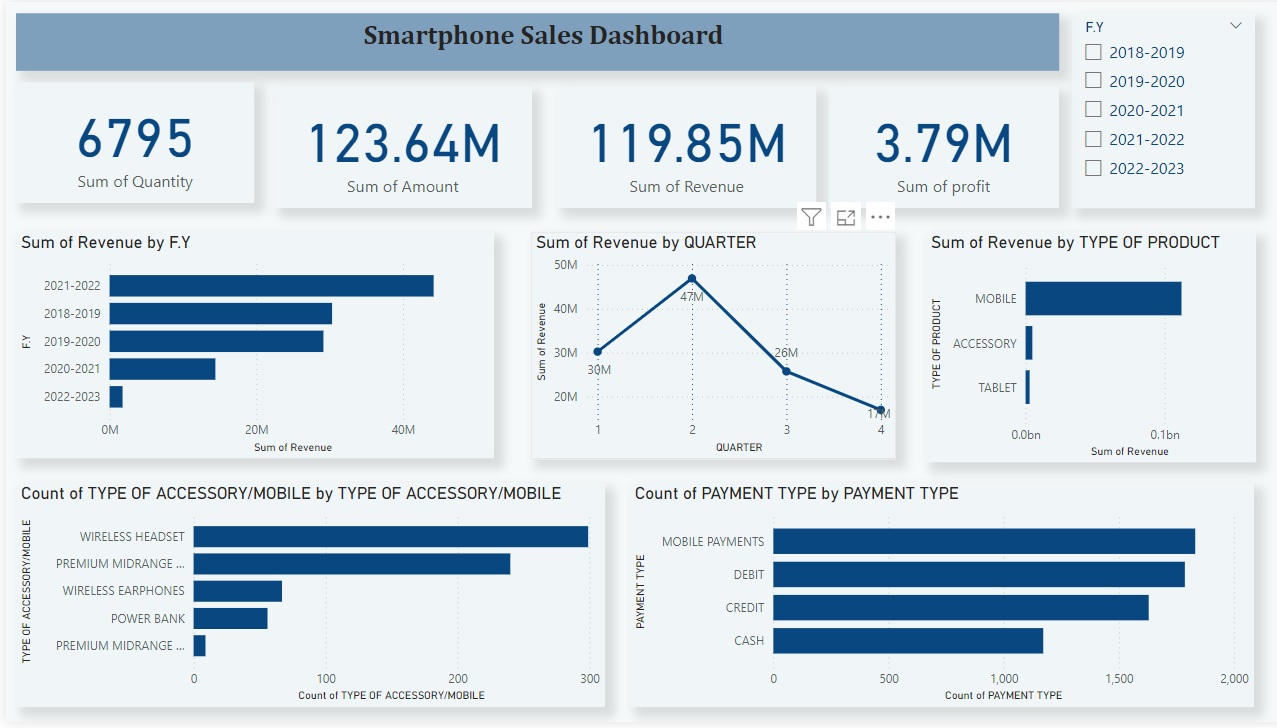

The dashboard page shown, as its layout file describes it:
{"tool":"powerbi","page":{"name":"Page 1","canvas":[1280,720],"ordinal":0},"visuals":[{"type":"textbox","box":[9.6,11,1042.9,57.6],"z":0},{"type":"card","fields":{"Values":["Sum(SMARTPHONE RETAIL OUTLET SALE DATA.Quantity)"]},"box":[9.6,79.6,238.8,120.8],"z":1000},{"type":"card","fields":{"Values":["Sum(SMARTPHONE RETAIL OUTLET SALE DATA.Amount)"]},"box":[269,85.1,256.6,120.8],"z":2000},{"type":"card","fields":{"Values":["Sum(SMARTPHONE RETAIL OUTLET SALE DATA.Revenue)"]},"box":[551.6,85.1,259.3,120.8],"z":3000},{"type":"card","fields":{"Values":["Sum(SMARTPHONE RETAIL OUTLET SALE DATA.profit)"]},"box":[822,85.1,230.5,120.8],"z":4000},{"type":"barChart","fields":{"Category":["SMARTPHONE RETAIL OUTLET SALE DATA.F.Y"],"Y":["Sum(SMARTPHONE RETAIL OUTLET SALE DATA.Revenue)"]},"box":[9.6,230.5,477.5,226.4],"z":5000},{"type":"lineChart","fields":{"Y":["Sum(SMARTPHONE RETAIL OUTLET SALE DATA.Revenue)"],"Category":["SMARTPHONE RETAIL OUTLET SALE DATA.QUARTER"]},"box":[525.6,230.5,365,226.4],"z":6000},{"type":"barChart","fields":{"Y":["Sum(SMARTPHONE RETAIL OUTLET SALE DATA.Revenue)"],"Category":["SMARTPHONE RETAIL OUTLET SALE DATA.TYPE OF PRODUCT"]},"box":[919.4,230.5,329.3,230.5],"z":7000},{"type":"barChart","fields":{"Category":["SMARTPHONE RETAIL OUTLET SALE DATA.TYPE OF ACCESSORY/MOBILE"],"Y":["CountNonNull(SMARTPHONE RETAIL OUTLET SALE DATA.TYPE OF ACCESSORY/MOBILE)"]},"box":[9.6,481.6,588.7,223.7],"z":8000},{"type":"barChart","fields":{"Category":["SMARTPHONE RETAIL OUTLET SALE DATA.PAYMENT TYPE"],"Y":["CountNonNull(SMARTPHONE RETAIL OUTLET SALE DATA.PAYMENT TYPE)"]},"box":[624.4,481.6,624.4,223.7],"z":9000},{"type":"slicer","fields":{"Values":["SMARTPHONE RETAIL OUTLET SALE DATA.F.Y"]},"box":[1066.4,11.1,182.6,194.8],"z":10000}]}

Visuals, with their boxes in screenshot pixels (x1, y1, x2, y2), scaled from the page's 1280x720 canvas onto the 1277x728 screenshot:
textbox: {"left": 10, "top": 11, "right": 1050, "bottom": 69}
card - Sum(SMARTPHONE RETAIL OUTLET SALE DATA.Quantity): {"left": 10, "top": 80, "right": 248, "bottom": 203}
card - Sum(SMARTPHONE RETAIL OUTLET SALE DATA.Amount): {"left": 268, "top": 86, "right": 524, "bottom": 208}
card - Sum(SMARTPHONE RETAIL OUTLET SALE DATA.Revenue): {"left": 550, "top": 86, "right": 809, "bottom": 208}
card - Sum(SMARTPHONE RETAIL OUTLET SALE DATA.profit): {"left": 820, "top": 86, "right": 1050, "bottom": 208}
barChart - SMARTPHONE RETAIL OUTLET SALE DATA.F.Y x Sum(SMARTPHONE RETAIL OUTLET SALE DATA.Revenue): {"left": 10, "top": 233, "right": 486, "bottom": 462}
lineChart - Sum(SMARTPHONE RETAIL OUTLET SALE DATA.Revenue) x SMARTPHONE RETAIL OUTLET SALE DATA.QUARTER: {"left": 524, "top": 233, "right": 889, "bottom": 462}
barChart - Sum(SMARTPHONE RETAIL OUTLET SALE DATA.Revenue) x SMARTPHONE RETAIL OUTLET SALE DATA.TYPE OF PRODUCT: {"left": 917, "top": 233, "right": 1246, "bottom": 466}
barChart - SMARTPHONE RETAIL OUTLET SALE DATA.TYPE OF ACCESSORY/MOBILE x CountNonNull(SMARTPHONE RETAIL OUTLET SALE DATA.TYPE OF ACCESSORY/MOBILE): {"left": 10, "top": 487, "right": 597, "bottom": 713}
barChart - SMARTPHONE RETAIL OUTLET SALE DATA.PAYMENT TYPE x CountNonNull(SMARTPHONE RETAIL OUTLET SALE DATA.PAYMENT TYPE): {"left": 623, "top": 487, "right": 1246, "bottom": 713}
slicer - SMARTPHONE RETAIL OUTLET SALE DATA.F.Y: {"left": 1064, "top": 11, "right": 1246, "bottom": 208}
